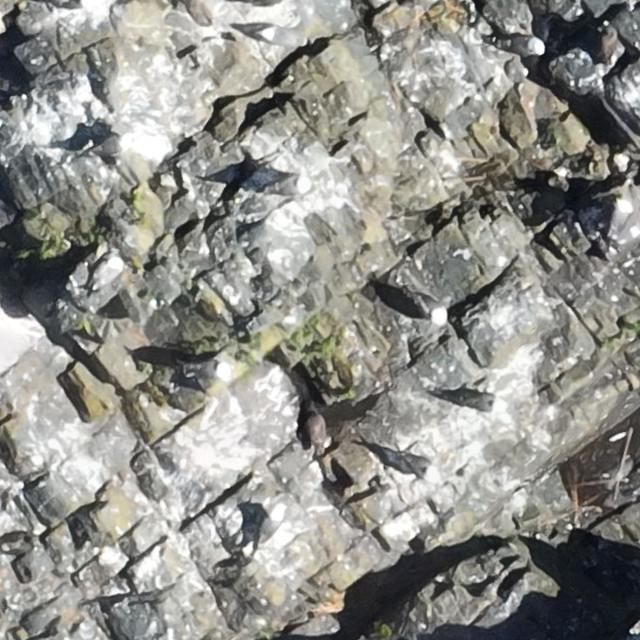umineko: (443, 386, 509, 418), (394, 451, 442, 484), (407, 289, 447, 327), (256, 24, 307, 51), (90, 253, 122, 292), (263, 175, 311, 200), (259, 502, 285, 548), (91, 135, 139, 156), (188, 363, 231, 383), (502, 37, 541, 55)
